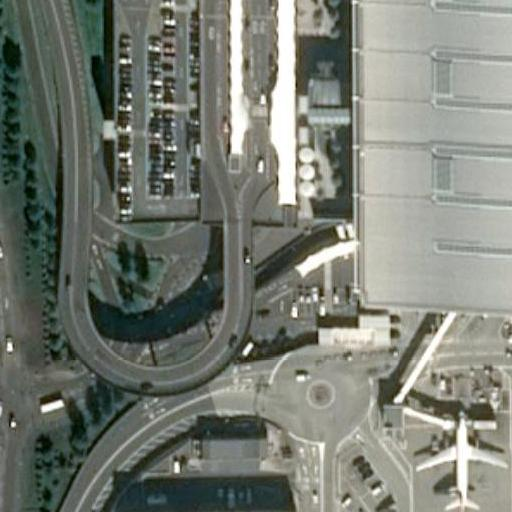Aircraft: (409, 415, 507, 512)
